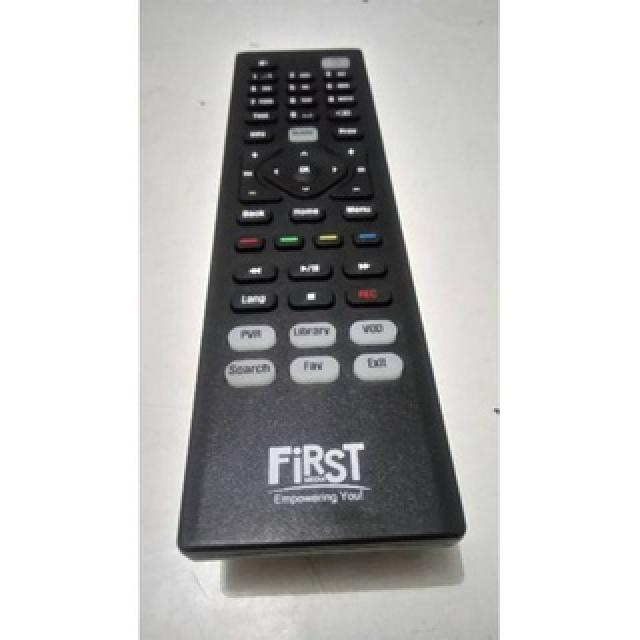remote: (169, 49, 471, 555)
